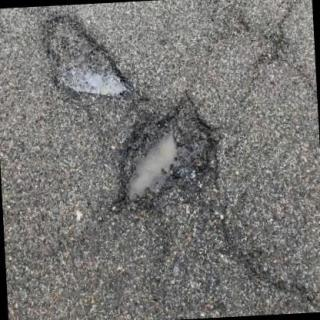pothole: (111, 92, 220, 219), (44, 16, 135, 98)
